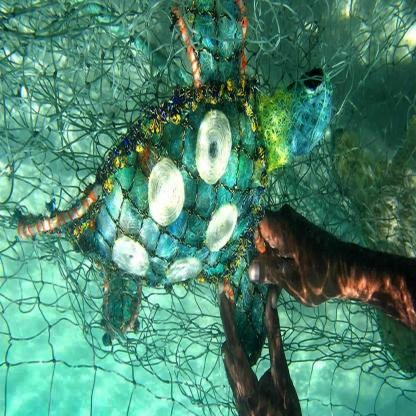net: (3, 6, 410, 416)
